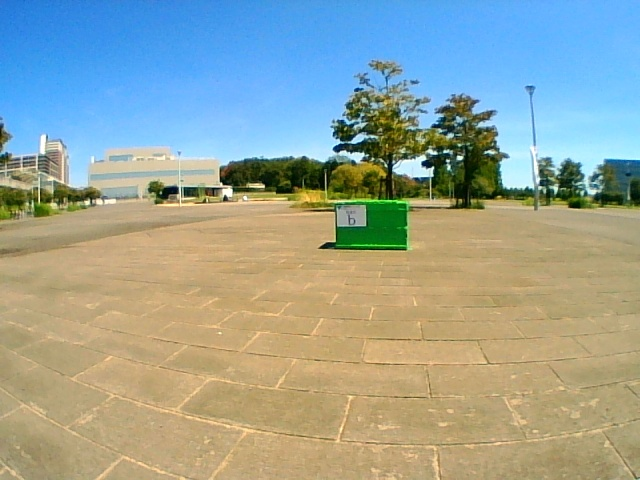green_box: (336, 202, 407, 251)
tag_b: (337, 206, 365, 226)
